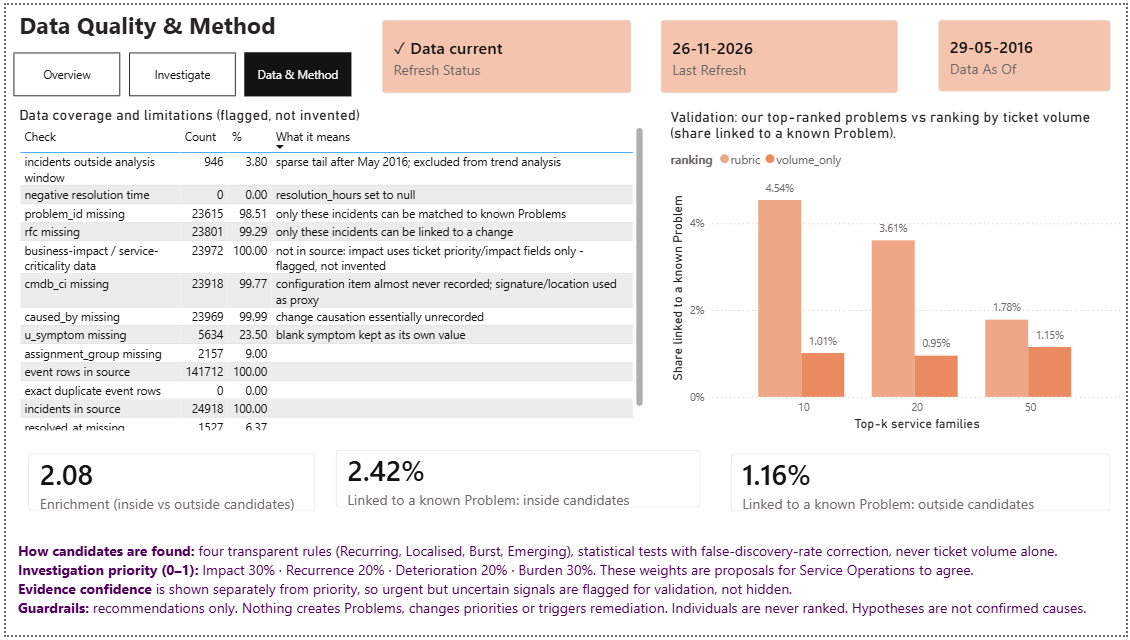

The page's visual inventory and layout, read from the dashboard file:
{"tool":"powerbi","page":{"name":"Data & Method","canvas":[1280,720],"ordinal":2},"visuals":[{"type":"textbox","box":[9.6,0,403.4,54.9],"z":0},{"type":"cardVisual","fields":{"Data":["refresh_log.Data As Of"]},"box":[1048.7,0,231.3,116.8],"z":1000},{"type":"cardVisual","fields":{"Data":["refresh_log.Last Refresh"]},"box":[731.9,0,305.2,118],"z":2000},{"type":"cardVisual","fields":{"Data":["refresh_log.Refresh Status"]},"box":[413,0,319.7,118],"z":3000},{"type":"tableEx","title":"Data coverage and limitations (flagged, not invented)","fields":{"Values":["data_quality.check","data_quality.count","data_quality.pct","data_quality.note"]},"box":[9.3,116.3,723.3,375.6],"z":4000},{"type":"clusteredColumnChart","title":"Validation: our top-ranked problems vs ranking by ticket volume (share linked to a known Problem).","fields":{"Category":["validation_topk_vs_volume.k"],"Y":["Avg(validation_topk_vs_volume.label_rate)"],"Series":["validation_topk_vs_volume.ranking"]},"box":[754.7,117.4,525.6,374.4],"z":5000},{"type":"cardVisual","fields":{"Data":["Sum(validation_summary.enrichment_ratio)"]},"box":[8.1,495.4,362.8,100],"z":6000},{"type":"cardVisual","fields":{"Data":["Sum(validation_summary.label_rate_inside)"]},"box":[360.5,491.9,451.2,100],"z":7000},{"type":"cardVisual","fields":{"Data":["Sum(validation_summary.label_rate_outside)"]},"box":[811.6,495.4,468.6,100],"z":8000},{"type":"textbox","box":[8.1,607,1272.1,112.8],"z":9000},{"type":"pageNavigator","box":[8.1,54.7,386,50],"z":10000}]}

Visuals, with their boxes in screenshot pixels (x1, y1, x2, y2), scaled from the page's 1280x720 canvas onto the 1130x640 screenshot:
textbox: left=8, top=0, right=365, bottom=49
cardVisual - refresh_log.Data As Of: left=926, top=0, right=1129, bottom=104
cardVisual - refresh_log.Last Refresh: left=646, top=0, right=916, bottom=105
cardVisual - refresh_log.Refresh Status: left=365, top=0, right=647, bottom=105
"Data coverage and limitations (flagged, not invented)" tableEx: left=8, top=103, right=647, bottom=437
"Validation: our top-ranked problems vs ranking by ticket volume (share linked to a known Problem)." clusteredColumnChart: left=666, top=104, right=1129, bottom=437
cardVisual - Sum(validation_summary.enrichment_ratio): left=7, top=440, right=327, bottom=529
cardVisual - Sum(validation_summary.label_rate_inside): left=318, top=437, right=717, bottom=526
cardVisual - Sum(validation_summary.label_rate_outside): left=716, top=440, right=1129, bottom=529
textbox: left=7, top=540, right=1129, bottom=639
pageNavigator: left=7, top=49, right=348, bottom=93
